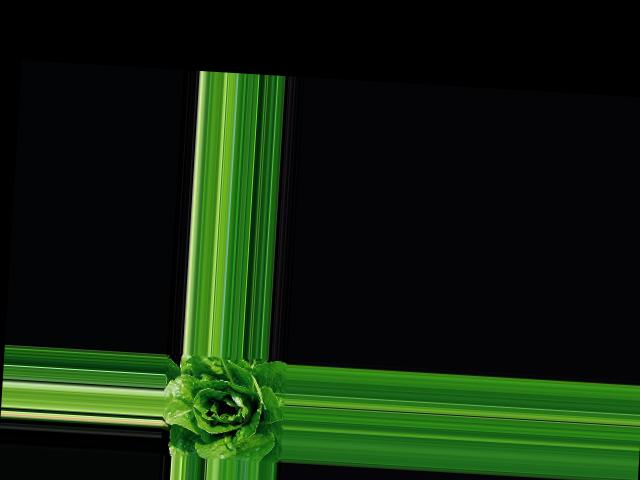lettuce: (165, 352, 285, 459)
